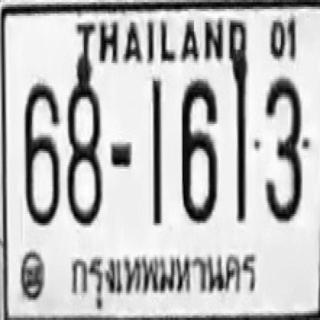N01: (150, 78, 162, 222)
N03: (264, 75, 307, 220)
N06: (24, 80, 60, 224), (180, 77, 216, 221)
N08: (67, 73, 101, 224)
P04: (59, 239, 262, 311)
